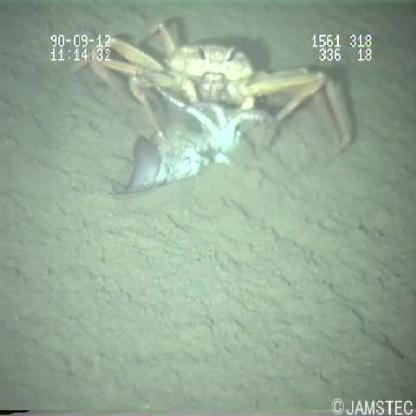Bio: (62, 26, 360, 196)
